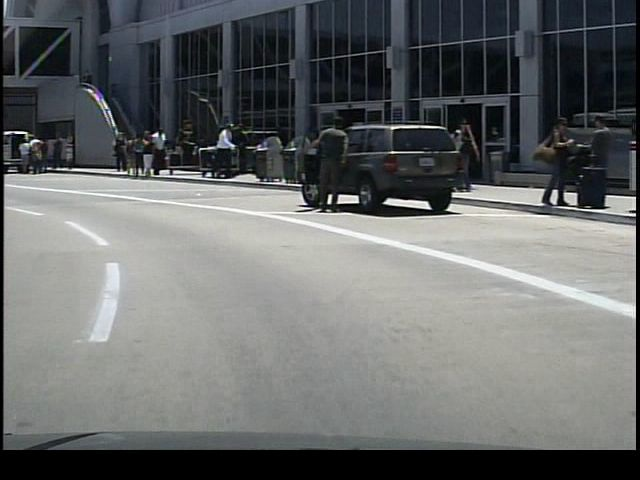person: (306, 114, 348, 220), (531, 116, 570, 210), (578, 113, 612, 206), (450, 114, 481, 198), (211, 120, 237, 183), (135, 130, 156, 180), (46, 129, 68, 176), (150, 125, 167, 179), (106, 130, 125, 175), (27, 132, 46, 176), (14, 137, 32, 177)
